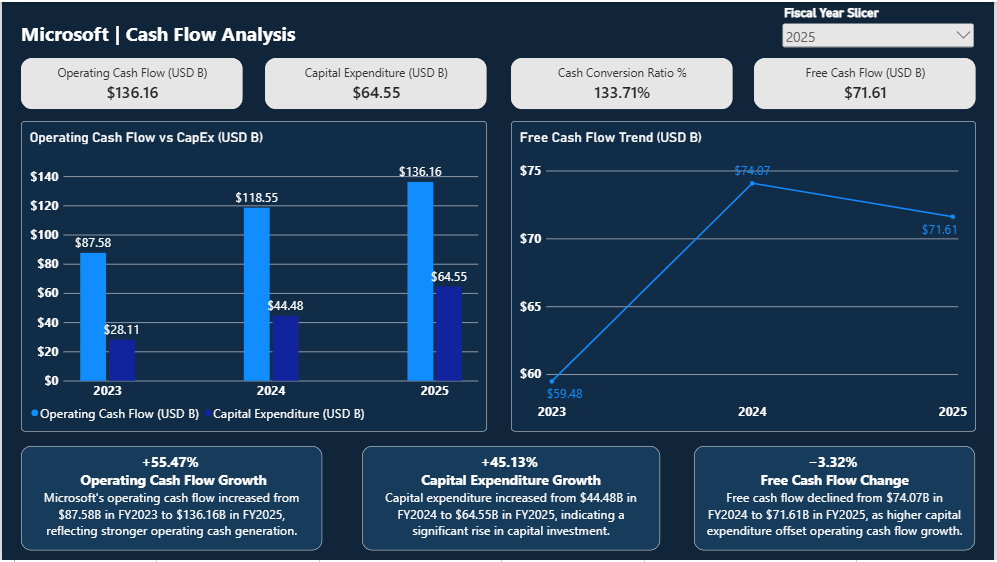

What the dashboard file says about the page in this screenshot:
{"tool":"powerbi","page":{"name":"Cash Flow Analysis","canvas":[1920,1080],"ordinal":3},"visuals":[{"type":"textbox","box":[36.9,34.7,555.2,60.7],"z":0},{"type":"slicer","fields":{"Values":["Dim_FiscalYear.FiscalYear"]},"box":[1505.1,8.7,379.5,88.9],"z":1000},{"type":"cardVisual","fields":{"Data":["Key Measures.Operating Cash Flow (USD B)"]},"box":[36.9,108.4,429.4,99.8],"z":2000},{"type":"cardVisual","fields":{"Data":["Key Measures.Capital Expenditure (USD B)"]},"box":[509.6,108.4,429.4,99.8],"z":3000},{"type":"cardVisual","fields":{"Data":["Key Measures.Free Cash Flow (USD B)"]},"box":[1455.2,108.4,429.4,99.8],"z":4000},{"type":"cardVisual","fields":{"Data":["Key Measures.Cash Conversion Ratio %"]},"box":[984.6,108.4,429.4,99.8],"z":5000},{"type":"clusteredColumnChart","title":"Operating Cash Flow vs CapEx (USD B)","fields":{"Category":["Dim_FiscalYear.FiscalYear"],"Y":["Key Measures.Operating Cash Flow (USD B)","Key Measures.Capital Expenditure (USD B)"]},"box":[36.9,229.9,902.2,600.7],"z":5001},{"type":"lineChart","title":"Free Cash Flow Trend (USD B)","fields":{"Category":["Dim_FiscalYear.FiscalYear"],"Y":["Key Measures.Free Cash Flow (USD B)"]},"box":[984.6,229.9,900,600.7],"z":5002},{"type":"textbox","box":[36.9,858.8,583.4,201.7],"z":5003},{"type":"textbox","box":[696.1,858.8,576.9,201.7],"z":5004},{"type":"textbox","box":[1340.2,858.8,544.3,201.7],"z":5005}]}

Visuals, with their boxes in screenshot pixels (x1, y1, x2, y2), scaled from the page's 1920x1080 canvas onto the 997x562 screenshot:
textbox: bbox=[19, 18, 307, 50]
slicer - Dim_FiscalYear.FiscalYear: bbox=[782, 5, 979, 51]
cardVisual - Key Measures.Operating Cash Flow (USD B): bbox=[19, 56, 242, 108]
cardVisual - Key Measures.Capital Expenditure (USD B): bbox=[265, 56, 488, 108]
cardVisual - Key Measures.Free Cash Flow (USD B): bbox=[756, 56, 979, 108]
cardVisual - Key Measures.Cash Conversion Ratio %: bbox=[511, 56, 734, 108]
"Operating Cash Flow vs CapEx (USD B)" clusteredColumnChart: bbox=[19, 120, 488, 432]
"Free Cash Flow Trend (USD B)" lineChart: bbox=[511, 120, 979, 432]
textbox: bbox=[19, 447, 322, 552]
textbox: bbox=[361, 447, 661, 552]
textbox: bbox=[696, 447, 979, 552]
